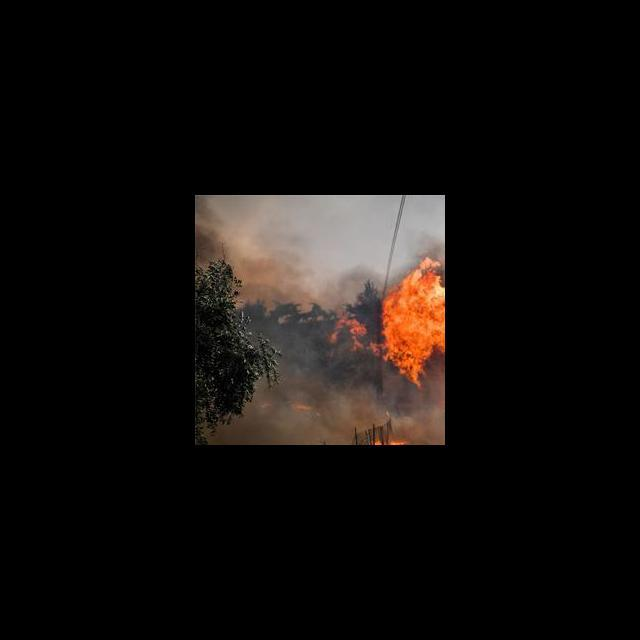Fire: (337, 248, 445, 378)
Smoke: (229, 388, 442, 436)
